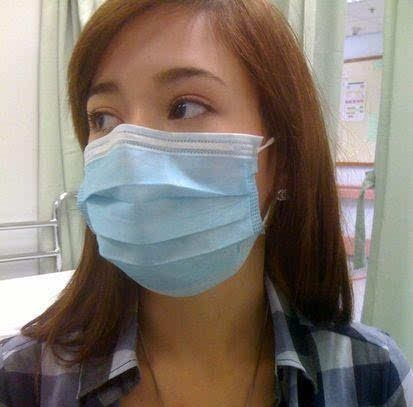face_mask: (76, 7, 261, 262)
